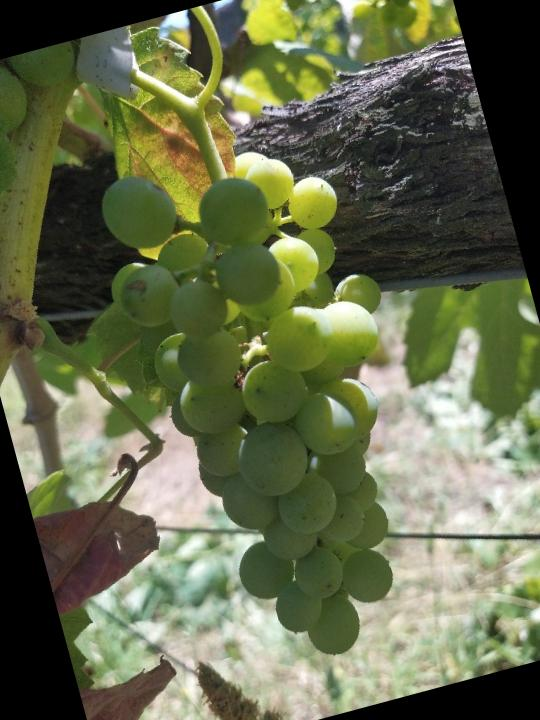grape: (82, 119, 468, 689)
